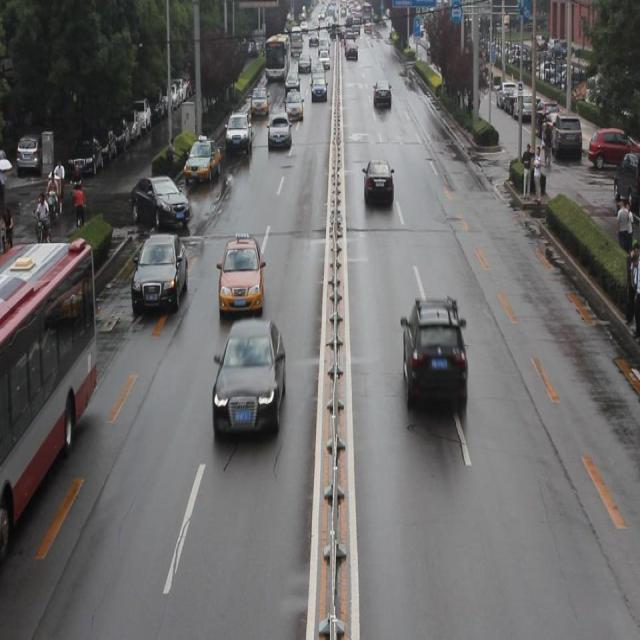car: (214, 320, 285, 434), (400, 297, 467, 414), (134, 235, 186, 311), (219, 237, 262, 312), (129, 175, 190, 227), (361, 159, 393, 210), (186, 135, 219, 180), (224, 111, 251, 152), (268, 114, 292, 148), (284, 90, 303, 120), (250, 88, 268, 116)
van: (1, 241, 96, 545)
